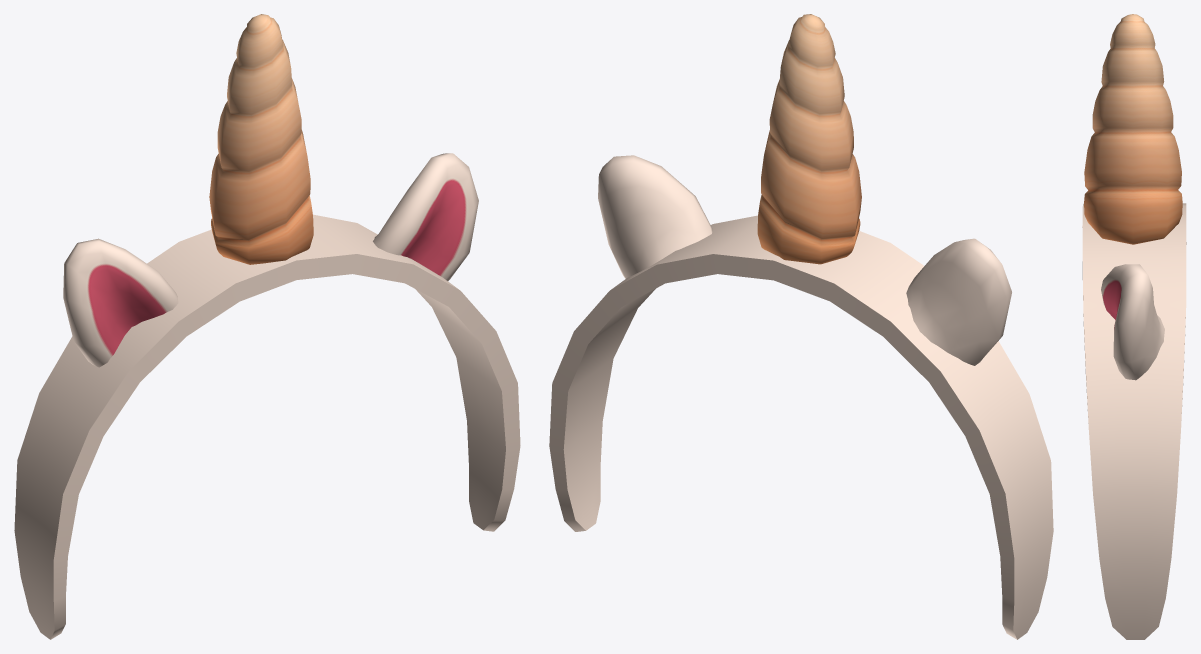
3 views of the same model, side by side, from view 1: azimuth 30°, elevation 25°; view 2: azimuth 150°, elevation 25°; view 3: azimuth 270°, elevation 25° (orthographic). The views are drawn at different scales.
Visible parts, largest first — view 1: model_39; view 2: model_39; view 3: model_39.
Part boxes in pixels (x1,y1,x2,y2): model_39: (14, 14, 520, 639); model_39: (549, 14, 1053, 639); model_39: (1082, 14, 1186, 639).
Bounding box in the file's own units: 0.7981 × 0.9306 × 0.1679.
Materials: 1 (1 with a texture image).
